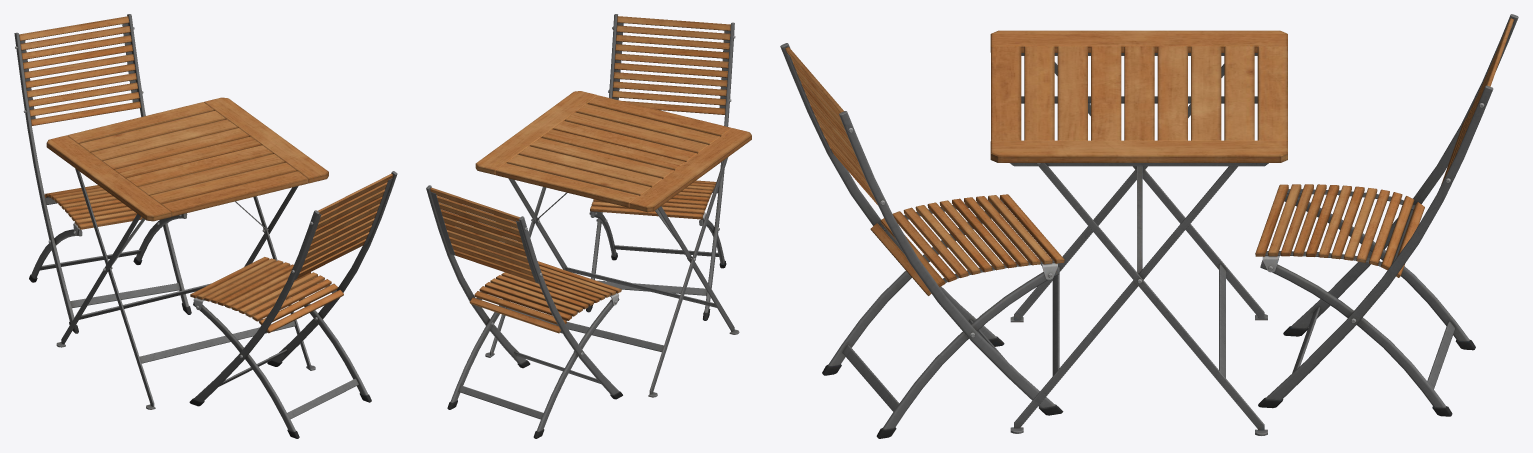
File: outdoor_table_chair_set_01.gltf
3 views of the same model, side by side, from view 1: azimuth 30°, elevation 25°; view 2: azimuth 150°, elevation 25°; view 3: azimuth 270°, elevation 25° (orthographic). The views are drawn at different scales.
Parts seen in each view (by area): view 1: outdoor_table_chair_set_01_table, outdoor_table_chair_set_01_chair_01, outdoor_table_chair_set_01_chair_02; view 2: outdoor_table_chair_set_01_table, outdoor_table_chair_set_01_chair_02, outdoor_table_chair_set_01_chair_01; view 3: outdoor_table_chair_set_01_table, outdoor_table_chair_set_01_chair_01, outdoor_table_chair_set_01_chair_02.
Part boxes in pixels (x1,y1,x2,y2): outdoor_table_chair_set_01_table: [46, 97, 328, 409]; outdoor_table_chair_set_01_chair_01: [189, 171, 397, 438]; outdoor_table_chair_set_01_chair_02: [14, 14, 191, 333]; outdoor_table_chair_set_01_table: [475, 91, 751, 397]; outdoor_table_chair_set_01_chair_02: [426, 185, 622, 438]; outdoor_table_chair_set_01_chair_01: [586, 14, 735, 320]; outdoor_table_chair_set_01_table: [990, 30, 1287, 435]; outdoor_table_chair_set_01_chair_01: [780, 43, 1064, 438]; outdoor_table_chair_set_01_chair_02: [1255, 14, 1518, 416].
Bounding box in the file's own units: 0.7417 × 0.8586 × 1.72.
Materials: 2 (2 with a texture image).
